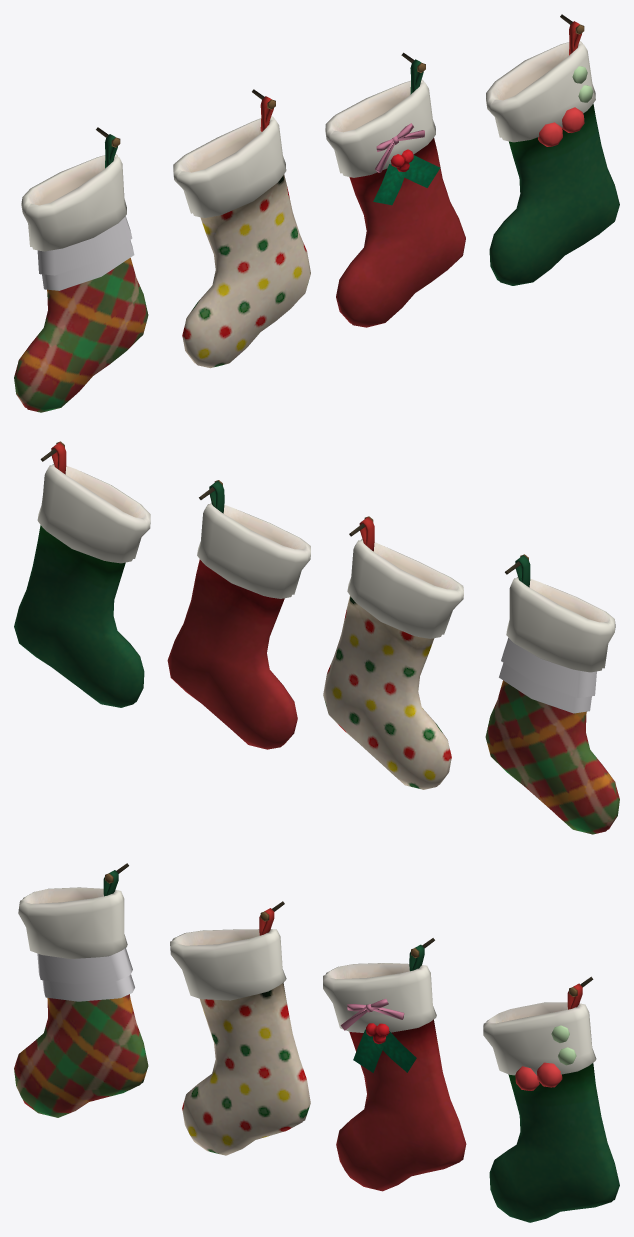
The model's file is ChrismaxSock.glb.
3 renders of one model, top to bottom at view 1: azimuth 30°, elevation 25°; view 2: azimuth 150°, elevation 25°; view 3: azimuth 330°, elevation 25°, orthographic.
Parts seen in each view (by area): view 1: Decoration_low__mBody; view 2: Decoration_low__mBody; view 3: Decoration_low__mBody.
Part boxes in pixels (x1,y1,x2,y2): Decoration_low__mBody: (14, 14, 619, 412); Decoration_low__mBody: (14, 441, 619, 834); Decoration_low__mBody: (14, 863, 619, 1222).
Size of the model in its own units: 1.87 by 0.7665 by 0.1779.
Materials: 1 (1 with a texture image).
